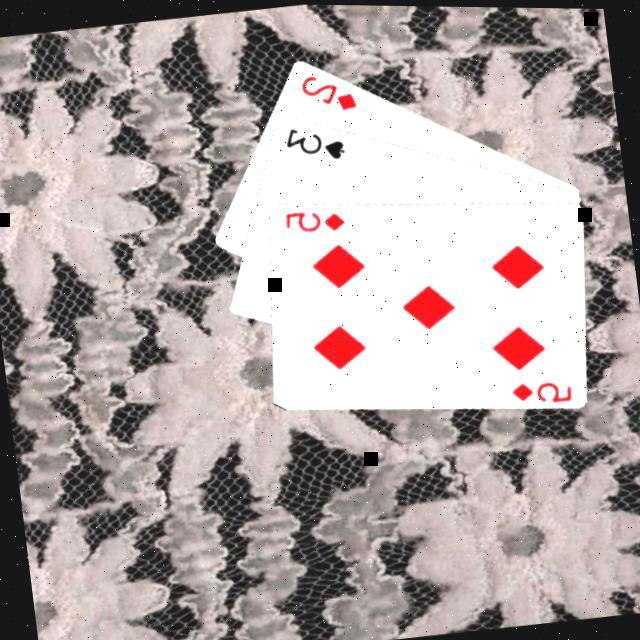2D: (297, 66, 362, 119)
3S: (280, 119, 349, 169)
5D: (282, 202, 349, 241), (507, 373, 576, 410)
